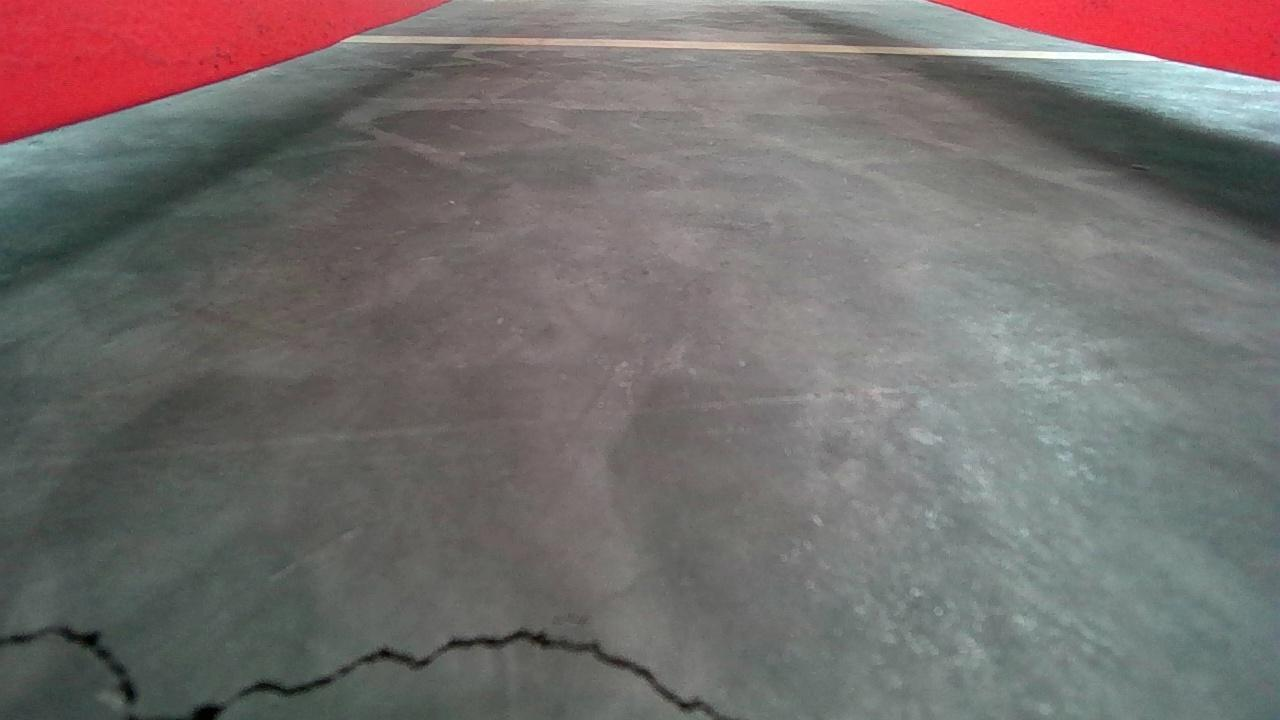yellow_line: (340, 31, 1164, 60)
